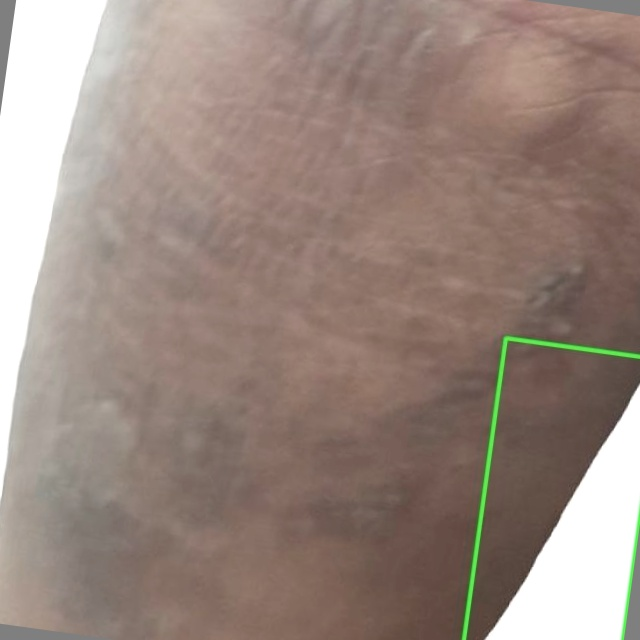Contact Dermatitis: (463, 338, 639, 639)
